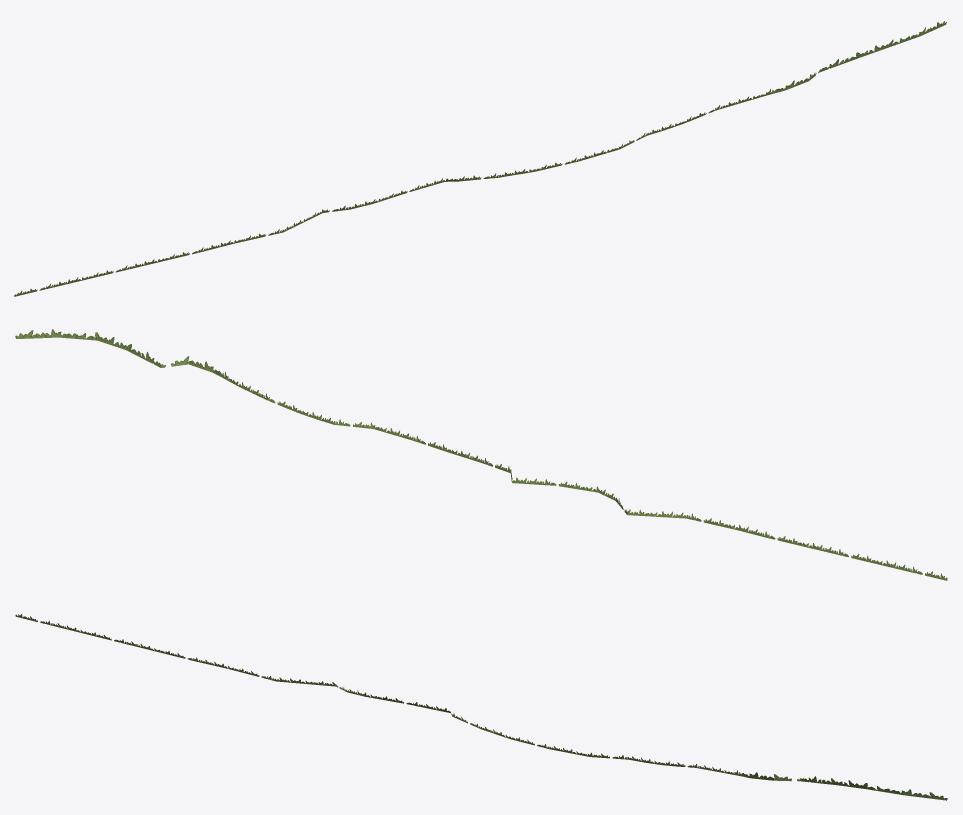
File: Mesh_Battle_Sand_Grass.fbx
3 renders of one model, top to bottom at view 1: azimuth 30°, elevation 25°; view 2: azimuth 150°, elevation 25°; view 3: azimuth 330°, elevation 25°, orthographic. The views are drawn at different scales.
Parts seen in each view (by area): view 1: Mesh_Battle_Sand_Grass; view 2: Mesh_Battle_Sand_Grass; view 3: Mesh_Battle_Sand_Grass.
Boxes of the visible parts, x1,y1,x2,y2 form: Mesh_Battle_Sand_Grass: [14, 21, 946, 296]; Mesh_Battle_Sand_Grass: [15, 329, 947, 580]; Mesh_Battle_Sand_Grass: [15, 614, 947, 800].
Size of the model in its own units: 3219 by 158 by 141.
